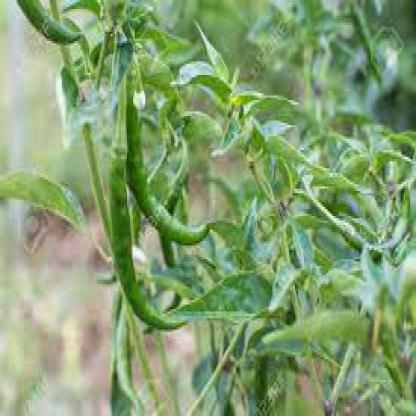Green Chilli: (95, 148, 194, 325), (127, 72, 218, 238)
